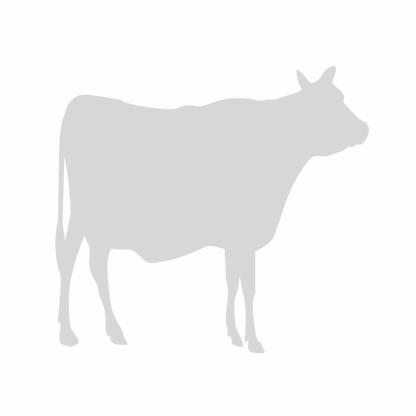cow: (55, 66, 368, 342)
